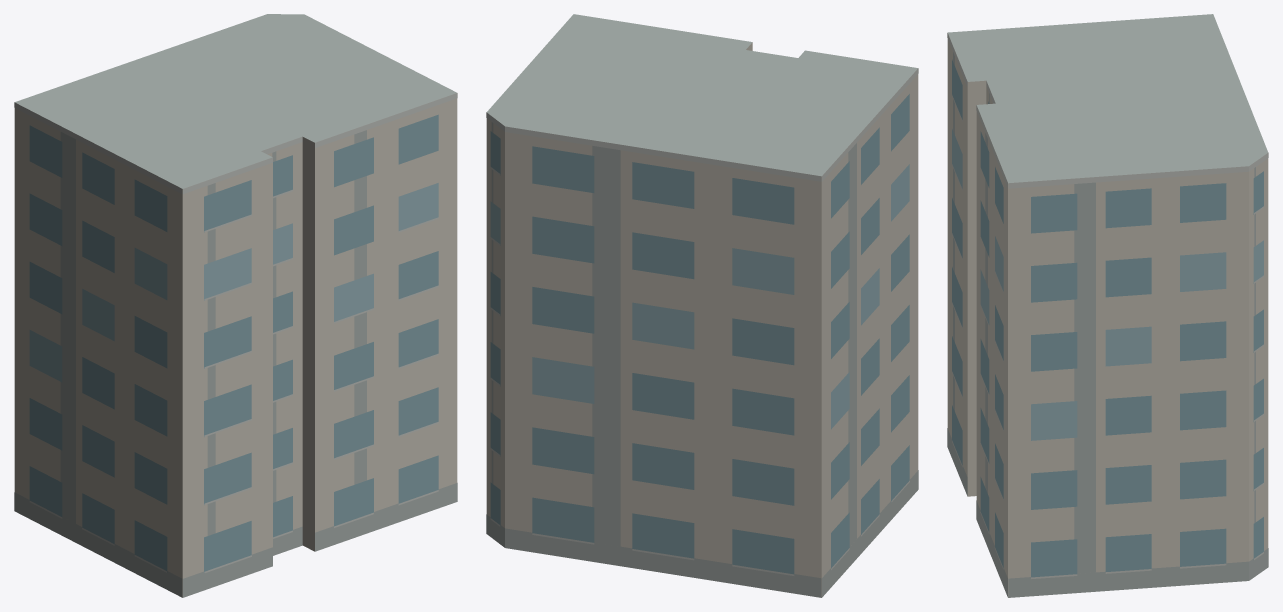
The model's file is survey-upis-32914615.glb.
The picture shows the model from 3 angles, left to right: view 1: azimuth 30°, elevation 25°; view 2: azimuth 150°, elevation 25°; view 3: azimuth 270°, elevation 25°; orthographic projection. The views are drawn at different scales.
Parts seen in each view (by area): view 1: survey-upis-32914615.tmp; view 2: survey-upis-32914615.tmp; view 3: survey-upis-32914615.tmp.
Part boxes in pixels (box(x1,y1,x2,y2)): survey-upis-32914615.tmp: box(14, 14, 457, 597); survey-upis-32914615.tmp: box(486, 14, 918, 597); survey-upis-32914615.tmp: box(947, 14, 1268, 597).
Bounding box in the file's own units: 16.02 × 18.3 × 12.84.
